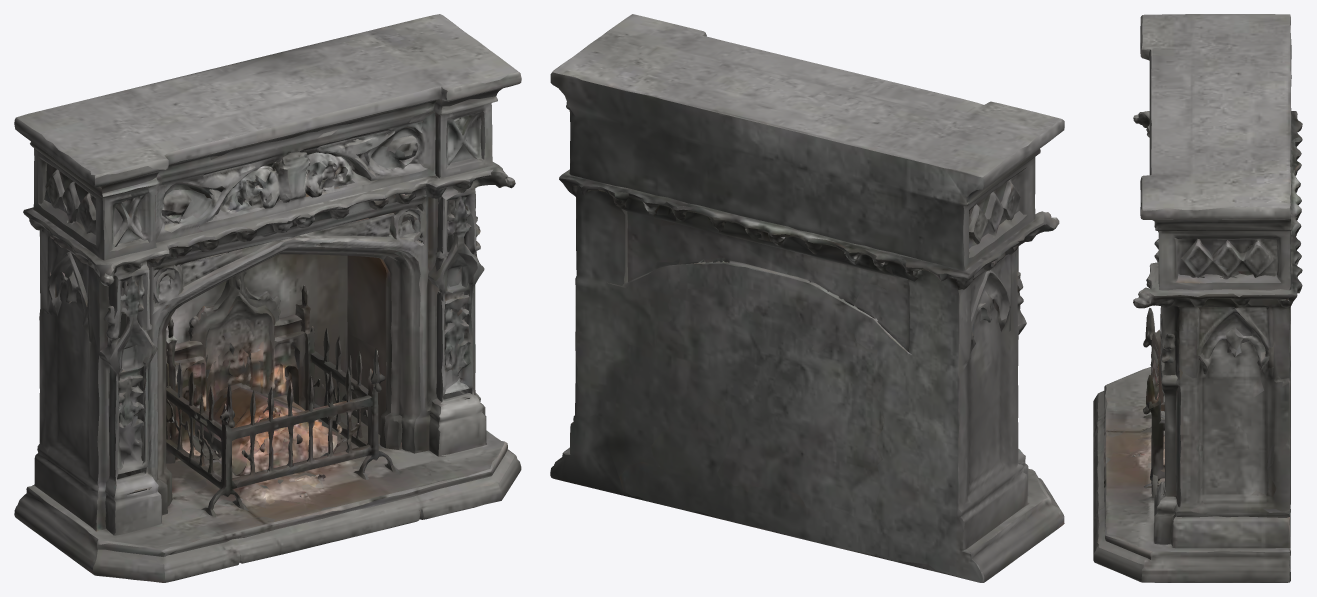
File: obj_study_fireplace.glb
3 views of the same model, side by side, from view 1: azimuth 30°, elevation 25°; view 2: azimuth 150°, elevation 25°; view 3: azimuth 270°, elevation 25° (orthographic). The views are drawn at different scales.
Parts seen in each view (by area): view 1: geometry_0; view 2: geometry_0; view 3: geometry_0.
Part boxes in pixels (x1,y1,x2,y2): geometry_0: (14, 14, 521, 582); geometry_0: (550, 14, 1064, 582); geometry_0: (1093, 14, 1302, 582).
Size of the model in its own units: 1.8 by 1.61 by 0.815.
Materials: 1 (1 with a texture image).
